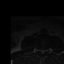CCS_normal: (41, 48, 43, 55)
LFS_stenosis: (44, 48, 46, 52)
LLS_stenosis: (43, 48, 44, 53)
RFS_stenosis: (38, 47, 40, 52)
RLS_stenosis: (40, 48, 41, 53)
